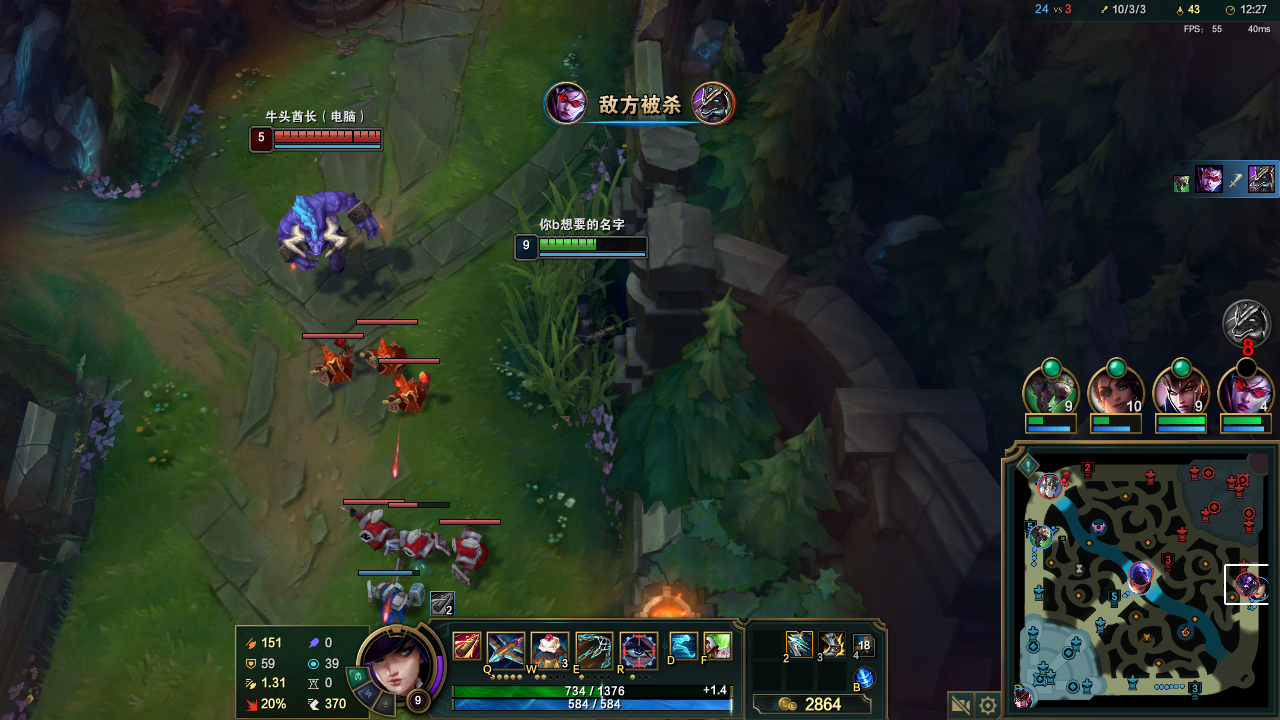DFXB: (448, 531, 488, 573), (361, 336, 401, 370), (385, 383, 427, 412), (354, 514, 390, 545), (308, 355, 347, 383), (403, 530, 436, 557)
DFYX: (269, 130, 383, 141)
WFXB: (366, 581, 418, 613)
